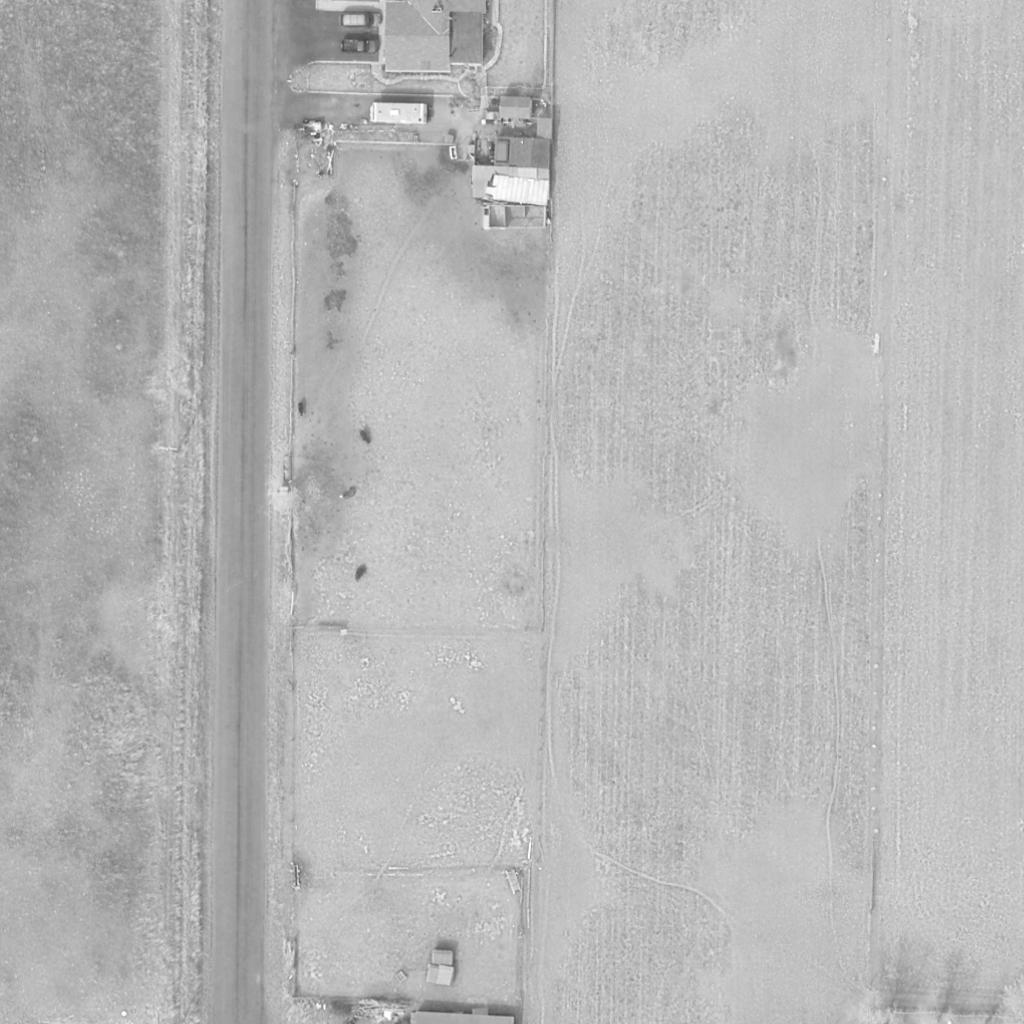vehicle: (368, 102, 432, 126), (337, 37, 381, 57), (338, 12, 382, 30)
